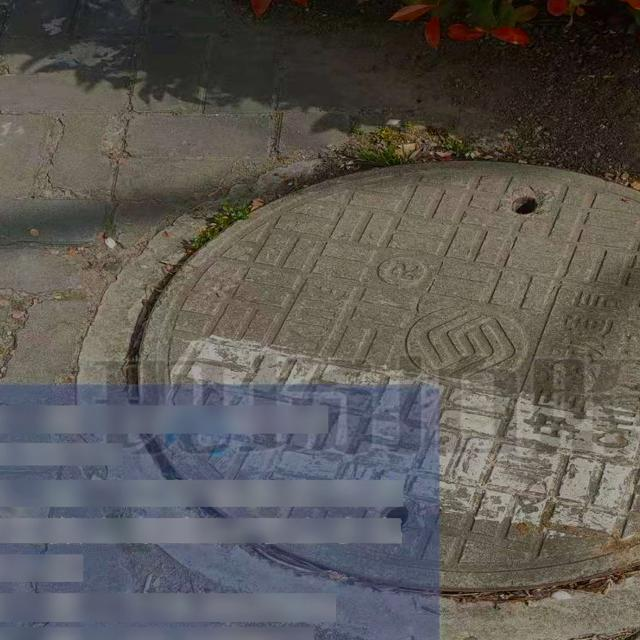circle: (115, 137, 640, 630)
